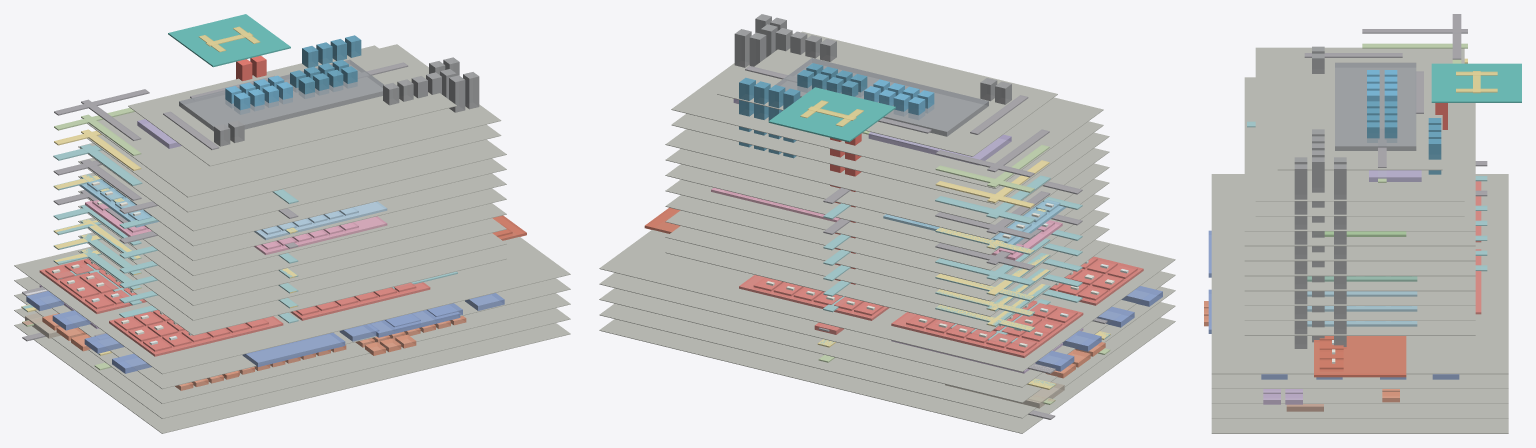
Rendered from hospital_model.glb.
3 renders of one model, left to right at view 1: azimuth 30°, elevation 25°; view 2: azimuth 150°, elevation 25°; view 3: azimuth 270°, elevation 25°, orthographic. The views are drawn at different scales.
Parts seen in each view (by area): view 1: FLOOR-PH, FLOOR-L3, FLOOR-L13, FLOOR-B2, FLOOR-B1, FLOOR-L11, FLOOR-L12, FLOOR-L10, FLOOR-L4, FLOOR-L6, FLOOR-L5, FLOOR-L7 (+19 smaller); view 2: FLOOR-L3, FLOOR-PH, FLOOR-L13, FLOOR-B2, FLOOR-B1, FLOOR-L1, FLOOR-L2, FLOOR-L11, FLOOR-L10, FLOOR-L5, FLOOR-L4, FLOOR-L6 (+24 smaller); view 3: FLOOR-L3, FLOOR-PH, FLOOR-L13, FLOOR-L11, MECH-AHU, FLOOR-B2, FLOOR-B1, FLOOR-L2, FLOOR-L1, FLOOR-L8, FLOOR-L9, HELIPAD-ROOF-01 (+23 smaller).
Part boxes in pixels (x1=…): FLOOR-PH: x1=128, y1=45, x2=456, y2=166; FLOOR-L3: x1=14, y1=237, x2=570, y2=374; FLOOR-L13: x1=87, y1=44, x2=501, y2=197; FLOOR-B2: x1=14, y1=323, x2=570, y2=433; FLOOR-B1: x1=14, y1=308, x2=570, y2=418; FLOOR-L11: x1=78, y1=139, x2=506, y2=231; FLOOR-L12: x1=87, y1=124, x2=501, y2=212; FLOOR-L10: x1=78, y1=158, x2=506, y2=246; FLOOR-L4: x1=78, y1=247, x2=506, y2=335; FLOOR-L6: x1=78, y1=217, x2=506, y2=305; FLOOR-L5: x1=78, y1=232, x2=506, y2=320; FLOOR-L7: x1=78, y1=203, x2=506, y2=290; FLOOR-L3: x1=599, y1=230, x2=1175, y2=371; FLOOR-PH: x1=717, y1=31, x2=1057, y2=156; FLOOR-L13: x1=671, y1=33, x2=1103, y2=188; FLOOR-B2: x1=599, y1=317, x2=1175, y2=433; FLOOR-B1: x1=599, y1=302, x2=1175, y2=418; FLOOR-L1: x1=599, y1=286, x2=1175, y2=402; FLOOR-L2: x1=599, y1=271, x2=1175, y2=387; FLOOR-L11: x1=665, y1=129, x2=1109, y2=223; FLOOR-L10: x1=665, y1=148, x2=1109, y2=239; FLOOR-L5: x1=665, y1=225, x2=1109, y2=316; FLOOR-L4: x1=665, y1=240, x2=1109, y2=331; FLOOR-L6: x1=665, y1=210, x2=1109, y2=301; FLOOR-L3: x1=1211, y1=174, x2=1508, y2=374; FLOOR-PH: x1=1277, y1=49, x2=1442, y2=170; FLOOR-L13: x1=1255, y1=47, x2=1464, y2=201; FLOOR-L11: x1=1244, y1=77, x2=1475, y2=231; MECH-AHU: x1=1335, y1=62, x2=1416, y2=150; FLOOR-B2: x1=1211, y1=419, x2=1508, y2=433; FLOOR-B1: x1=1211, y1=404, x2=1508, y2=418; FLOOR-L2: x1=1211, y1=374, x2=1508, y2=388; FLOOR-L1: x1=1211, y1=389, x2=1508, y2=403; FLOOR-L8: x1=1244, y1=261, x2=1475, y2=276; FLOOR-L9: x1=1244, y1=246, x2=1475, y2=261; HELIPAD-ROOF-01: x1=1431, y1=63, x2=1521, y2=102.
Bounding box in the file's own units: 137 × 76.45 × 88.09.
